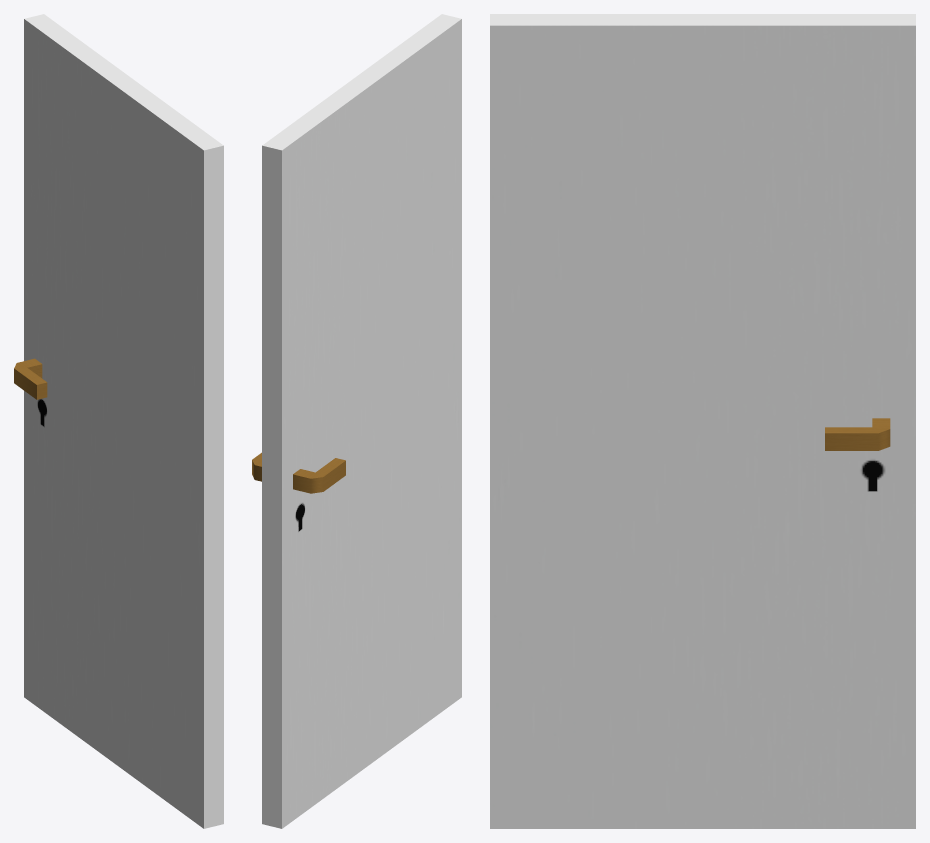
The model's file is fbx_door.fbx.
3 views of the same model, side by side, from view 1: azimuth 30°, elevation 25°; view 2: azimuth 150°, elevation 25°; view 3: azimuth 270°, elevation 25° (orthographic). The views are drawn at different scales.
Parts seen in each view (by area): view 1: door; view 2: door; view 3: door.
Part boxes in pixels (x1=…): door: x1=14, y1=14, x2=223, y2=828; door: x1=252, y1=14, x2=461, y2=828; door: x1=490, y1=14, x2=915, y2=828.
Size of the model in its own units: 0.218 by 1.98 by 0.9524.
